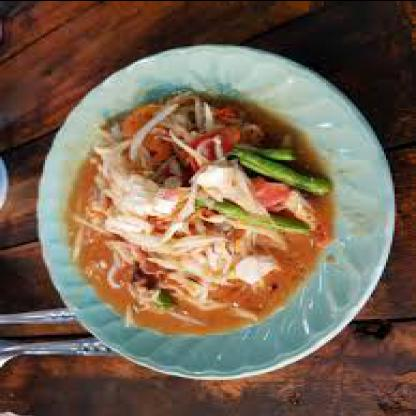Pad Thai: (64, 64, 354, 342)
